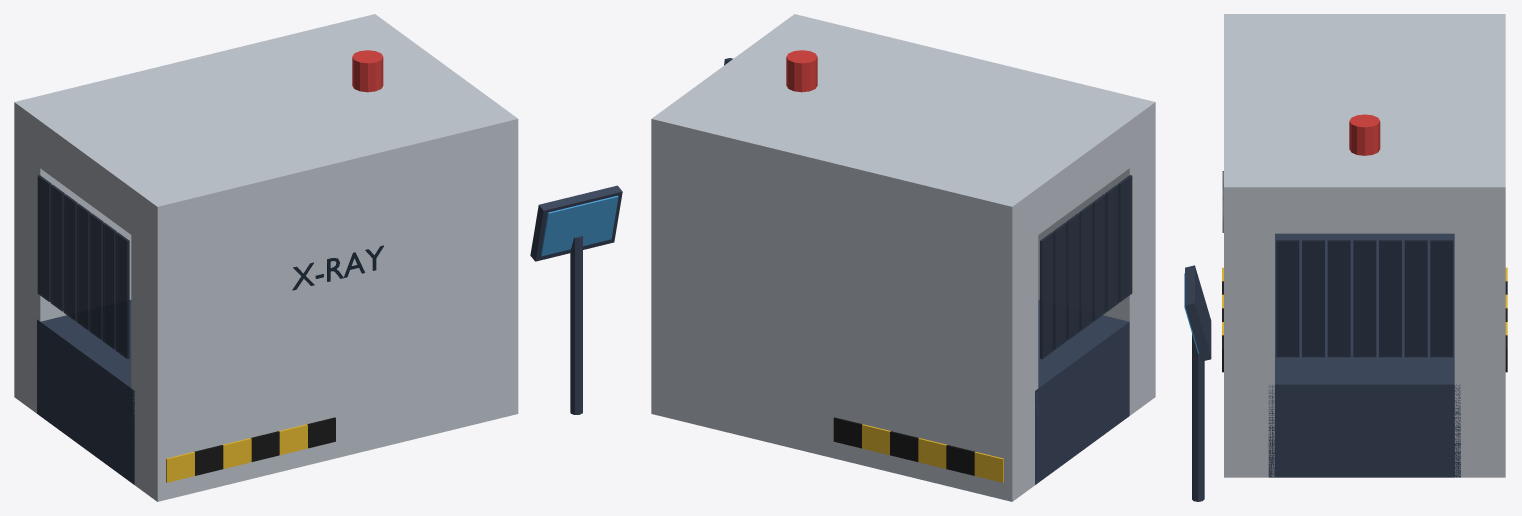
Rendered from xray.glb.
The picture shows the model from 3 angles, left to right: view 1: azimuth 30°, elevation 25°; view 2: azimuth 150°, elevation 25°; view 3: azimuth 270°, elevation 25°; orthographic projection.
Visible parts, largest first — view 1: Side.001, Top, Base, Side, Screen, Pole, Monitor, Curtain, Curtain.001, Curtain.002, Curtain.003, Curtain.005 (+10 smaller); view 2: Side, Top, Base, Side.001, Curtain.001, Curtain.004, Curtain, Curtain.002, Curtain.003, Curtain.006, Curtain.005, Beacon (+6 smaller); view 3: Top, Base, Side, Side.001, Curtain.007, Curtain.009, Curtain.010, Curtain.012, Curtain.013, Curtain.008, Curtain.011, Pole (+2 smaller).
Boxes of the visible parts, x1,y1,x2,y2 form: Side.001: (131,143,518,501); Top: (14,14,518,253); Base: (37,299,134,484); Side: (14,126,131,413); Screen: (541,195,618,256); Pole: (570,236,582,414); Monitor: (530,185,622,261); Curtain: (115,232,129,359); Curtain.001: (102,222,116,349); Curtain.002: (89,213,103,340); Curtain.003: (76,203,90,330); Curtain.005: (50,184,64,311); Side: (651,143,1038,501); Top: (651,14,1155,253); Base: (1035,299,1129,484); Side.001: (1038,126,1155,415); Curtain.001: (1105,184,1119,311); Curtain.004: (1066,213,1080,340); Curtain: (1118,175,1132,301); Curtain.002: (1092,194,1106,320); Curtain.003: (1079,203,1093,330); Curtain.006: (1040,232,1053,359); Curtain.005: (1053,222,1066,349); Beacon: (786,50,817,92); Top: (1224,14,1505,233); Base: (1268,233,1460,477); Side: (1454,210,1505,477); Side.001: (1224,210,1274,477); Curtain.007: (1276,240,1299,357); Curtain.009: (1327,240,1350,357); Curtain.010: (1353,240,1376,357); Curtain.012: (1404,240,1427,357); Curtain.013: (1430,240,1453,357); Curtain.008: (1302,240,1324,357); Curtain.011: (1379,240,1401,357); Pole: (1192,334,1204,501).
Size of the model in its own units: 3.98 by 2.74 by 2.52.
